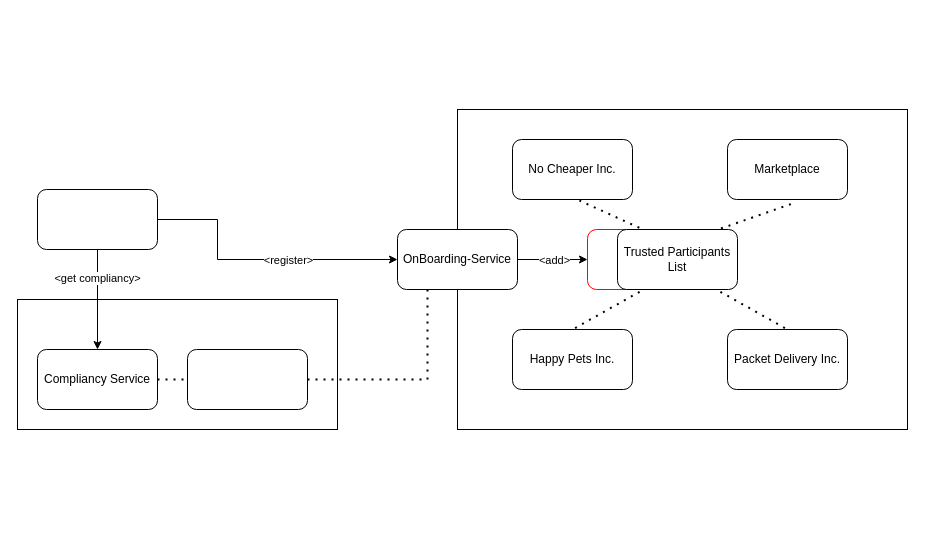
Image size: 925x538. Some labels were removed from this diagram. Each missing label, with the box of its shape:
Animal Goods Org.: (36, 188, 158, 250)
Dataspace: (456, 108, 908, 430)
Gaia-X: (16, 298, 338, 430)
Registry: (186, 348, 308, 410)
